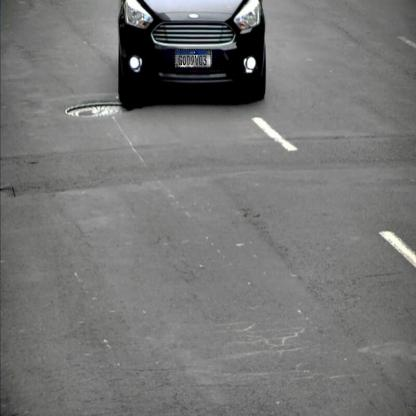PlacaM: (175, 49, 211, 68)
